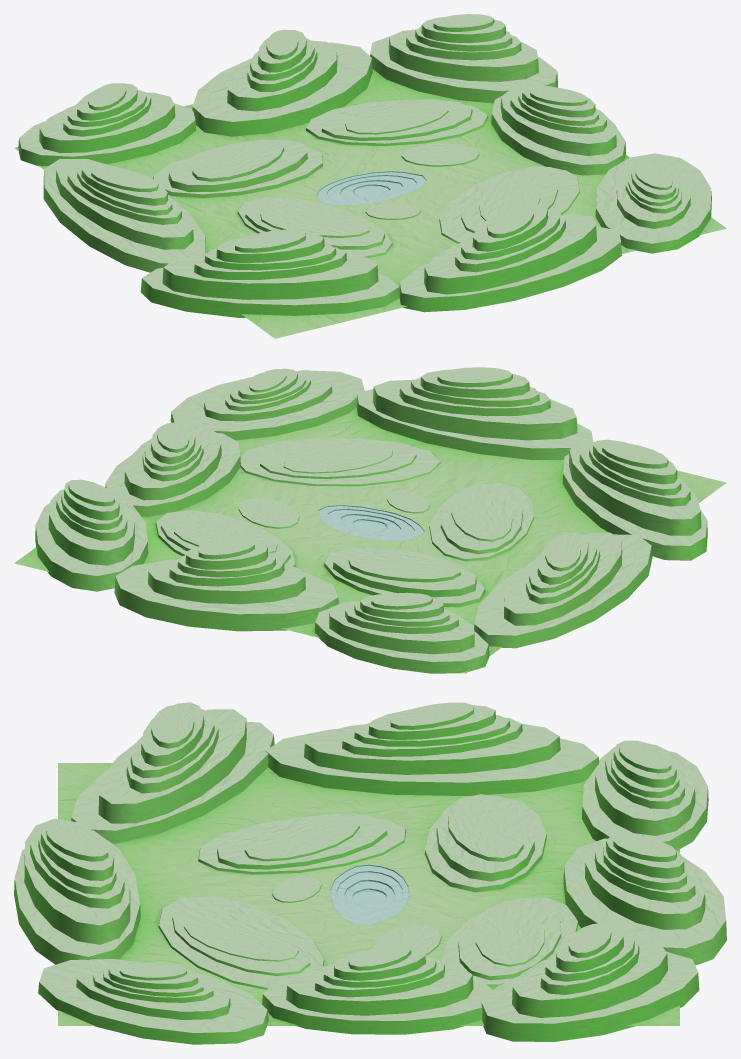
Rendered from Environment.FBX.
3 views of the same model, one above another, from view 1: azimuth 30°, elevation 25°; view 2: azimuth 150°, elevation 25°; view 3: azimuth 270°, elevation 25° (orthographic). The views are drawn at different scales.
Visible parts, largest first — view 1: Land and Lake, Cylinder024, Cylinder063, Cylinder050, Cylinder042, Cylinder062, Cylinder051, Cylinder056, Cylinder030, Cylinder031, Cylinder057, Cylinder018 (+50 smaller); view 2: Land and Lake, Cylinder024, Cylinder056, Cylinder051, Cylinder042, Cylinder050, Cylinder063, Cylinder057, Cylinder030, Cylinder018, Cylinder025, Cylinder011 (+51 smaller); view 3: Land and Lake, Cylinder056, Cylinder042, Cylinder030, Cylinder057, Cylinder024, Cylinder063, Cylinder062, Cylinder036, Cylinder031, Cylinder037, Cylinder051 (+51 smaller).
Boxes of the visible parts, x1=… form: Land and Lake: x1=14, y1=69, x2=726, y2=338; Cylinder024: x1=192, y1=42, x2=372, y2=136; Cylinder063: x1=162, y1=253, x2=378, y2=299; Cylinder050: x1=399, y1=226, x2=621, y2=312; Cylinder042: x1=595, y1=153, x2=711, y2=253; Cylinder062: x1=140, y1=267, x2=399, y2=317; Cylinder051: x1=424, y1=214, x2=596, y2=294; Cylinder056: x1=43, y1=159, x2=205, y2=272; Cylinder030: x1=370, y1=35, x2=557, y2=103; Cylinder031: x1=388, y1=29, x2=538, y2=81; Cylinder057: x1=55, y1=161, x2=193, y2=249; Cylinder018: x1=18, y1=103, x2=195, y2=166; Land and Lake: x1=14, y1=407, x2=726, y2=673; Cylinder024: x1=114, y1=559, x2=338, y2=631; Cylinder056: x1=474, y1=534, x2=652, y2=648; Cylinder051: x1=372, y1=379, x2=577, y2=440; Cylinder042: x1=170, y1=370, x2=364, y2=440; Cylinder050: x1=356, y1=388, x2=593, y2=459; Cylinder063: x1=569, y1=442, x2=701, y2=535; Cylinder057: x1=504, y1=532, x2=622, y2=625; Cylinder030: x1=35, y1=496, x2=148, y2=591; Cylinder018: x1=314, y1=608, x2=489, y2=673; Cylinder025: x1=148, y1=559, x2=305, y2=604; Cylinder011: x1=240, y1=438, x2=440, y2=486; Land and Lake: x1=58, y1=763, x2=679, y2=1025; Cylinder056: x1=265, y1=729, x2=599, y2=795; Cylinder042: x1=38, y1=959, x2=268, y2=1044; Cylinder030: x1=481, y1=951, x2=699, y2=1041; Cylinder057: x1=304, y1=723, x2=560, y2=774; Cylinder024: x1=563, y1=838, x2=726, y2=965; Cylinder063: x1=98, y1=709, x2=246, y2=823; Cylinder062: x1=71, y1=722, x2=274, y2=843; Cylinder036: x1=262, y1=977, x2=492, y2=1034; Cylinder031: x1=512, y1=939, x2=667, y2=1017; Cylinder037: x1=286, y1=963, x2=473, y2=1015; Cylinder051: x1=24, y1=818, x2=130, y2=944.
Bounding box in the file's own units: 992 × 103 × 961.
2 materials, 2 textured.
